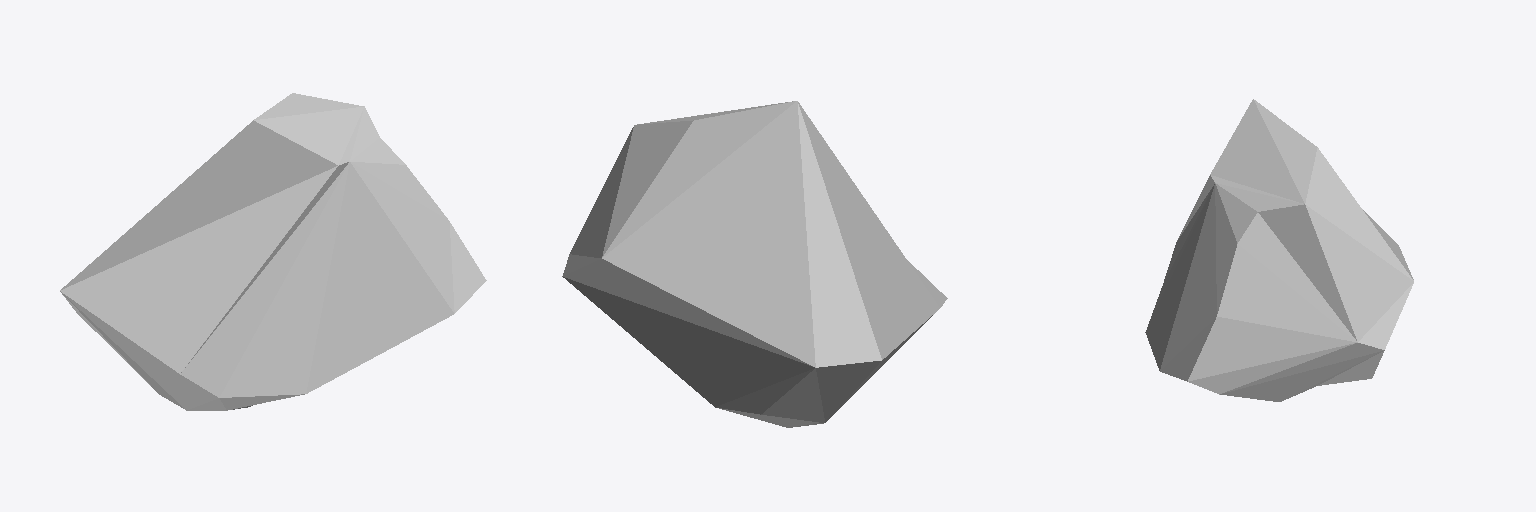
The model's file is Stone_3.obj.
3 views of the same model, side by side, from view 1: azimuth 30°, elevation 25°; view 2: azimuth 150°, elevation 25°; view 3: azimuth 270°, elevation 25° (orthographic).
Parts seen in each view (by area): view 1: Cube.001; view 2: Cube.001; view 3: Cube.001.
Part boxes in pixels (bbox=[...]): Cube.001: bbox=[60, 93, 486, 410]; Cube.001: bbox=[562, 101, 947, 427]; Cube.001: bbox=[1145, 99, 1413, 401].
Size of the model in its own units: 0.4353 by 0.3371 by 0.275.